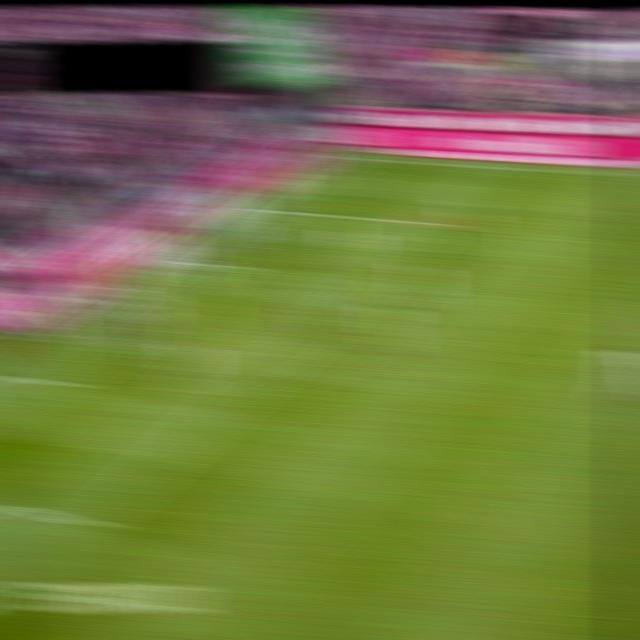bigarea_bottom_inner: (74, 517, 110, 530)
bigarea_top_inner: (422, 217, 457, 230)
bigarea_top_outter: (238, 201, 275, 213)
bottom_arc_area_intersection: (221, 387, 260, 402)
corner: (320, 149, 355, 162)
smallarea_bottom_inner: (46, 377, 84, 392)
smallarea_top_inner: (215, 259, 251, 273)
smallarea_top_outter: (159, 253, 194, 266)
top_arc_area_intersection: (343, 283, 379, 299)
